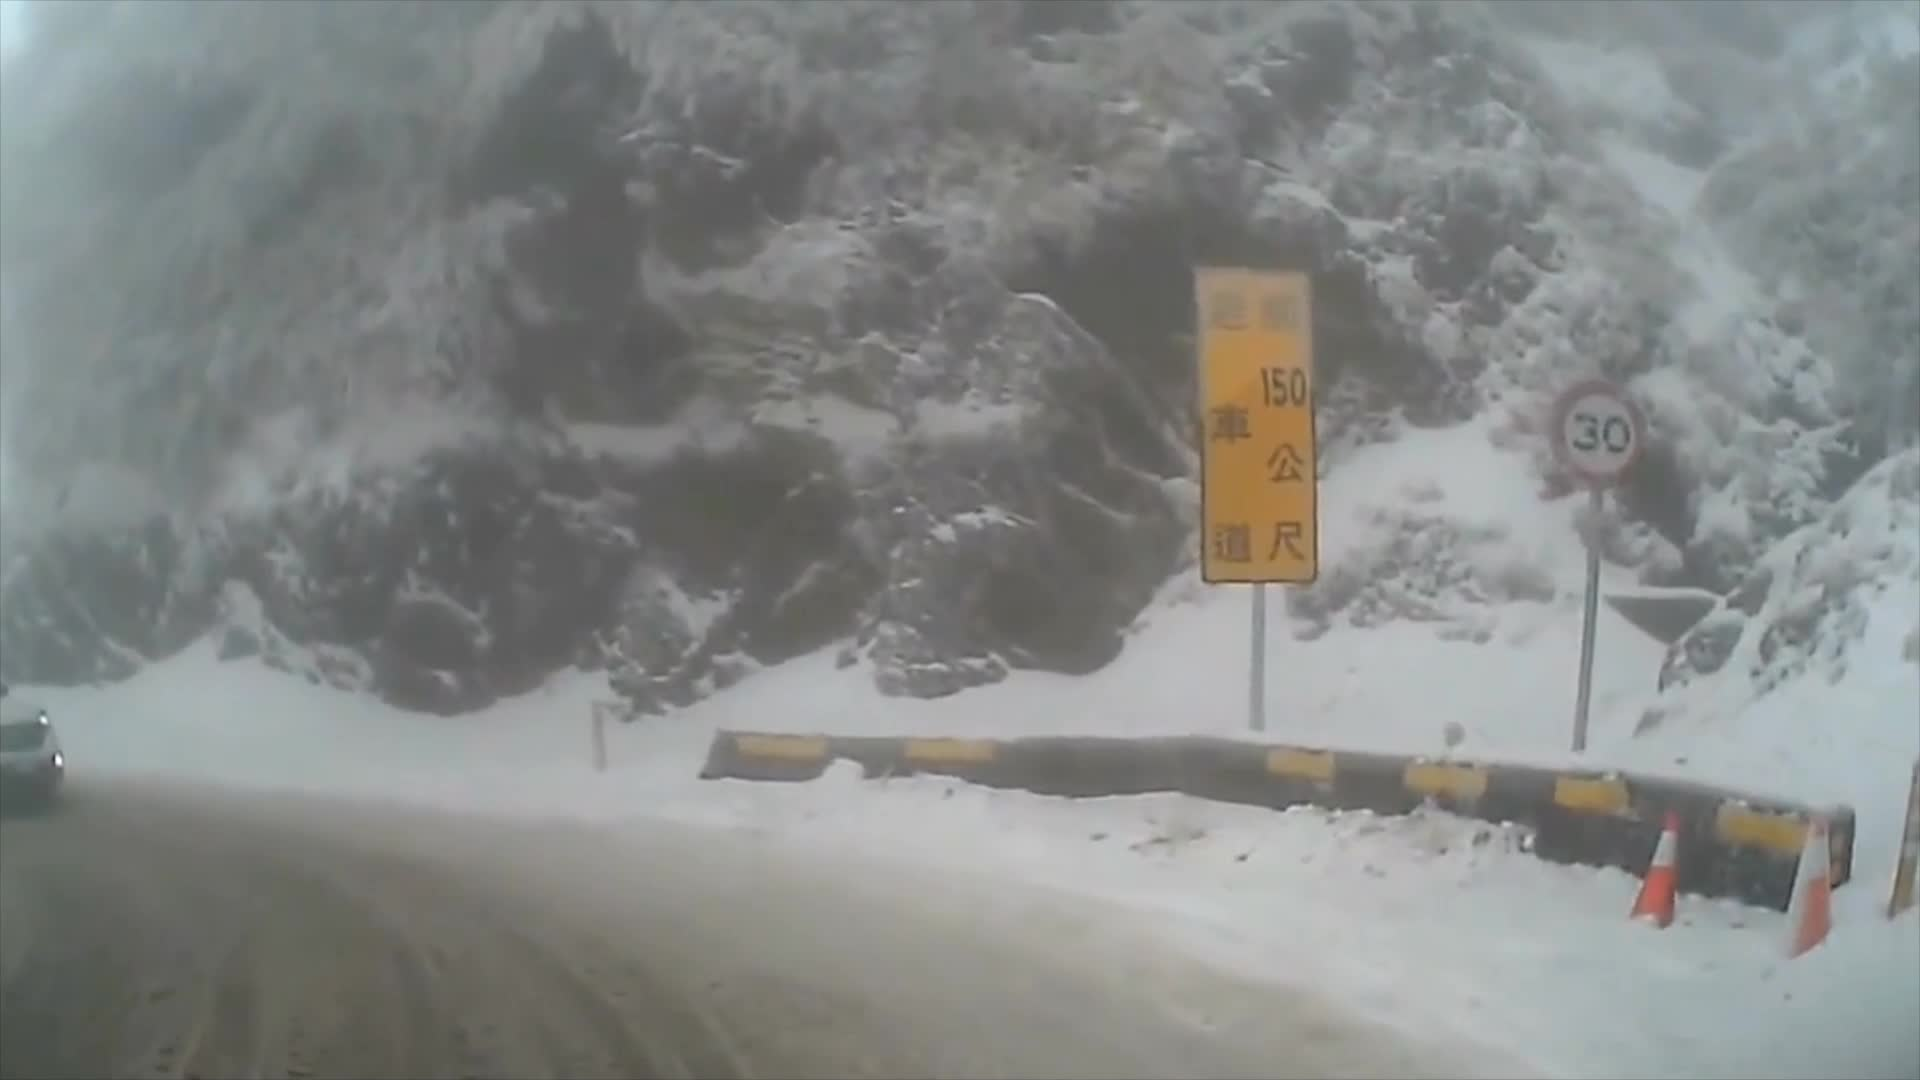vehicle: (0, 680, 59, 808)
